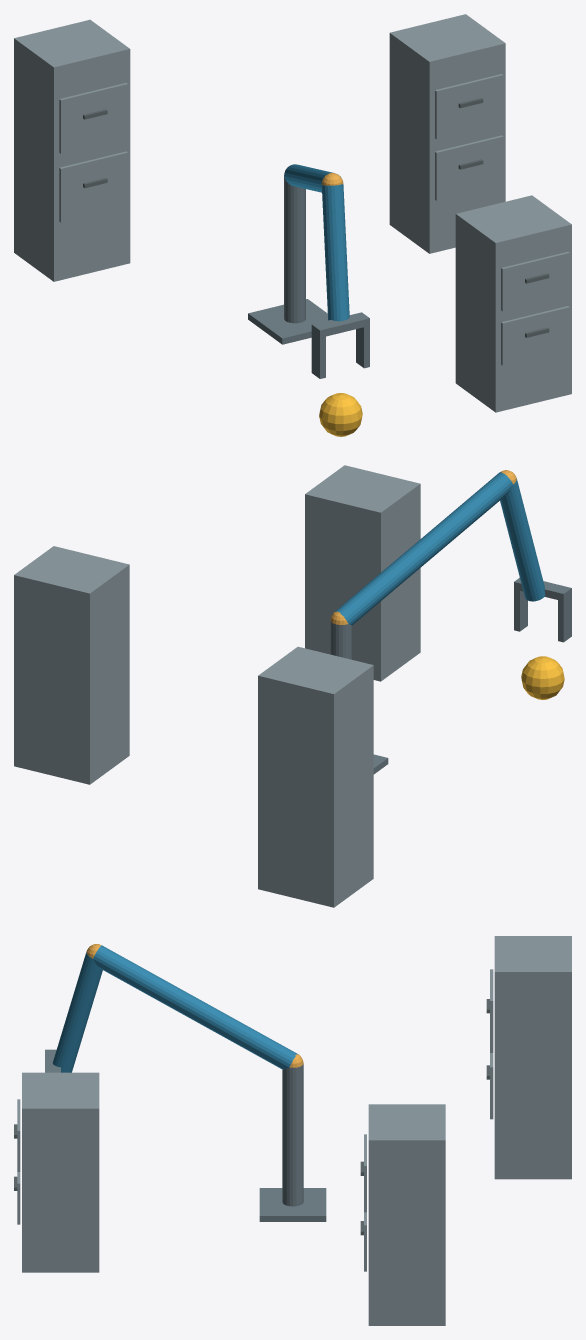
3 renders of one model, top to bottom at view 1: azimuth 30°, elevation 25°; view 2: azimuth 150°, elevation 25°; view 3: azimuth 270°, elevation 25°, orthographic. The views are drawn at different scales.
Visible parts, largest first — view 1: cabinet_3 body, cabinet_2 body, cabinet_1 body, cabinet_3 drawer front, cabinet_3 drawer front.001, cabinet_2 drawer front, cabinet_2 drawer front.001, moving link 2, fixed post, cabinet_1 drawer front.001, cabinet_1 drawer front, pedestal (+5 smaller); view 2: cabinet_3 body, cabinet_2 body, cabinet_1 body, moving link 1, moving link 2, ball ball_1, fixed post, gripper finger -1; view 3: cabinet_3 body, cabinet_2 body, cabinet_1 body, moving link 1, fixed post, moving link 2, pedestal.
Boxes of the visible parts, x1=… form: cabinet_3 body: x1=14, y1=19, x2=130, y2=281; cabinet_2 body: x1=389, y1=14, x2=505, y2=253; cabinet_1 body: x1=455, y1=195, x2=571, y2=412; cabinet_3 drawer front: x1=59, y1=151, x2=127, y2=222; cabinet_3 drawer front.001: x1=59, y1=82, x2=127, y2=153; cabinet_2 drawer front: x1=435, y1=135, x2=503, y2=200; cabinet_2 drawer front.001: x1=435, y1=74, x2=503, y2=139; moving link 2: x1=321, y1=184, x2=349, y2=321; fixed post: x1=284, y1=175, x2=305, y2=323; cabinet_1 drawer front.001: x1=501, y1=252, x2=569, y2=311; cabinet_1 drawer front: x1=501, y1=306, x2=569, y2=365; pedestal: x1=248, y1=299, x2=327, y2=344; cabinet_3 body: x1=258, y1=646, x2=373, y2=907; cabinet_2 body: x1=14, y1=546, x2=129, y2=784; cabinet_1 body: x1=305, y1=465, x2=420, y2=681; moving link 1: x1=335, y1=472, x2=512, y2=625; moving link 2: x1=500, y1=478, x2=545, y2=601; ball ball_1: x1=521, y1=656, x2=564, y2=699; fixed post: x1=330, y1=622, x2=352, y2=659; gripper finger -1: x1=558, y1=596, x2=571, y2=642; cabinet_3 body: x1=494, y1=936, x2=571, y2=1179; cabinet_2 body: x1=368, y1=1104, x2=445, y2=1325; cabinet_1 body: x1=22, y1=1072, x2=99, y2=1272; moving link 1: x1=93, y1=945, x2=297, y2=1069; fixed post: x1=282, y1=1064, x2=303, y2=1206; moving link 2: x1=52, y1=952, x2=102, y2=1072; pedestal: x1=259, y1=1188, x2=326, y2=1221.
Bounding box in the file's own units: 1.62 × 0.966 × 2.1.
